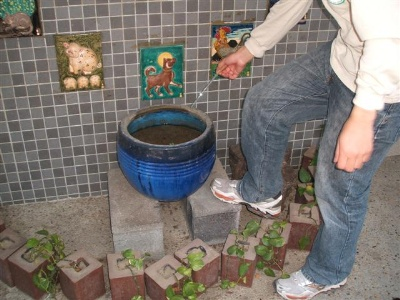bowl: (116, 104, 216, 201)
